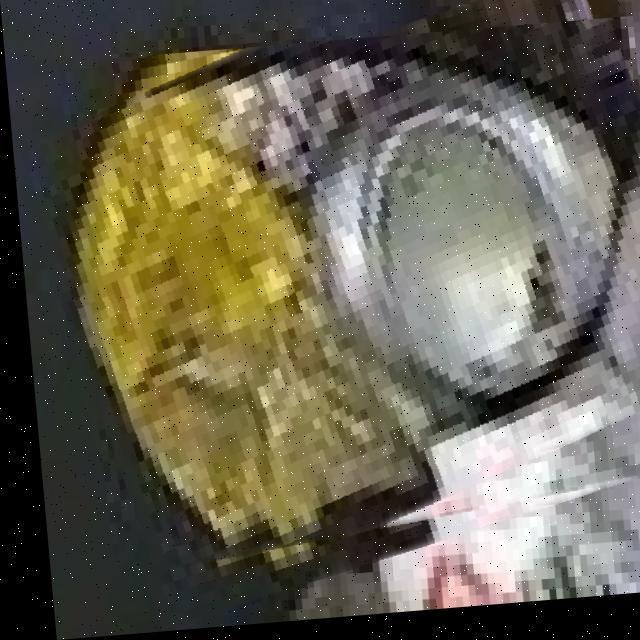litter: (14, 38, 640, 577)
